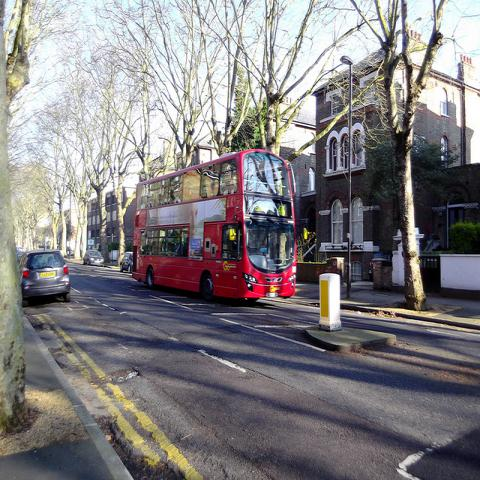bus: (133, 148, 295, 300)
car: (21, 249, 72, 308), (82, 249, 105, 267), (120, 252, 132, 272)
